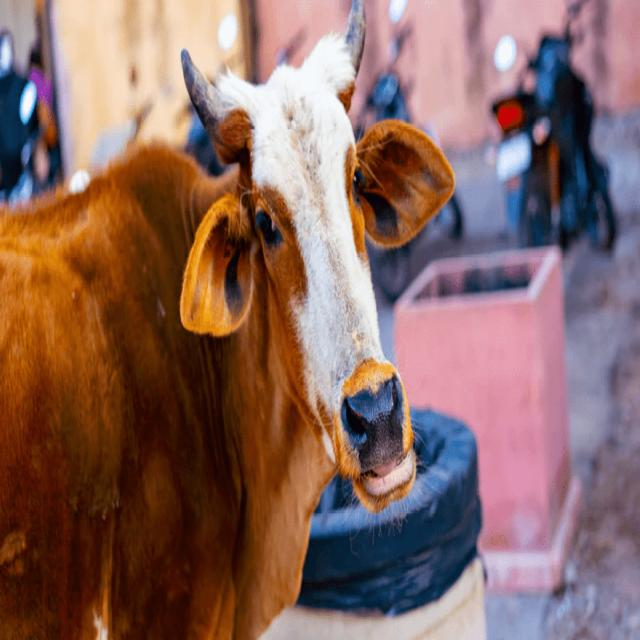cowFace: (168, 3, 456, 506)
